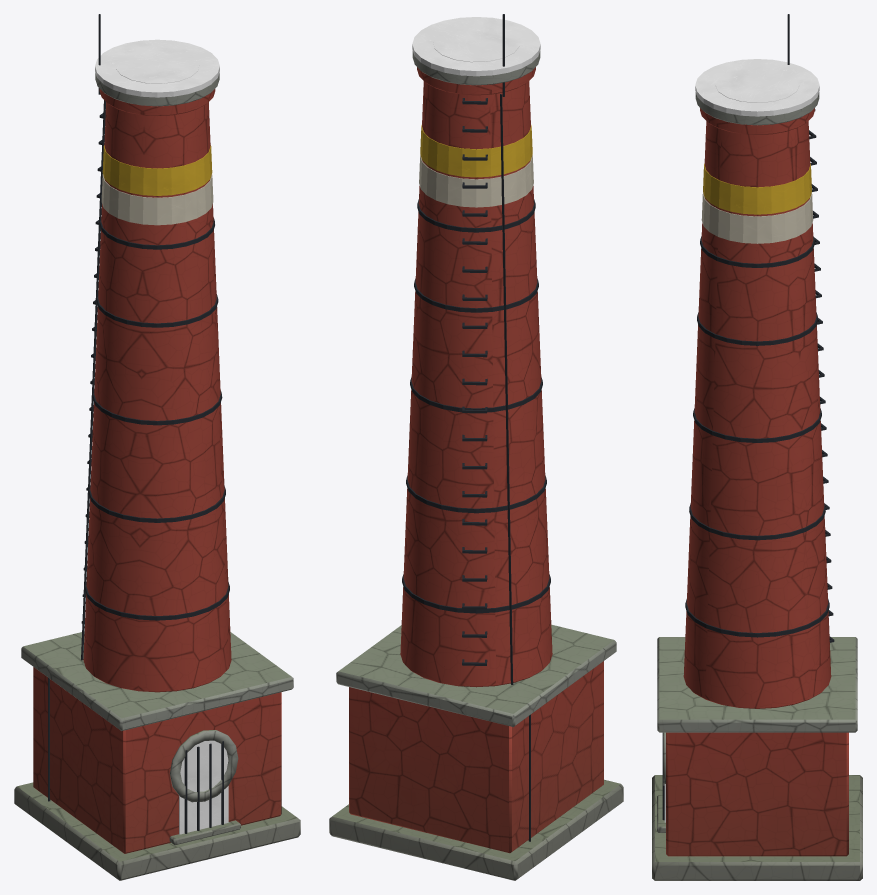
The model's file is smokestack_brick.glb.
3 views of the same model, side by side, from view 1: azimuth 30°, elevation 25°; view 2: azimuth 150°, elevation 25°; view 3: azimuth 270°, elevation 25° (orthographic). The views are drawn at different scales.
Parts seen in each view (by area): view 1: smokestack_brick; view 2: smokestack_brick; view 3: smokestack_brick.
Boxes of the visible parts, bbox=[...] form: smokestack_brick: bbox=[14, 14, 300, 880]; smokestack_brick: bbox=[329, 14, 623, 880]; smokestack_brick: bbox=[652, 14, 862, 880].
Size of the model in its own units: 3 by 12.6 by 3.
6 materials, 6 textured.
